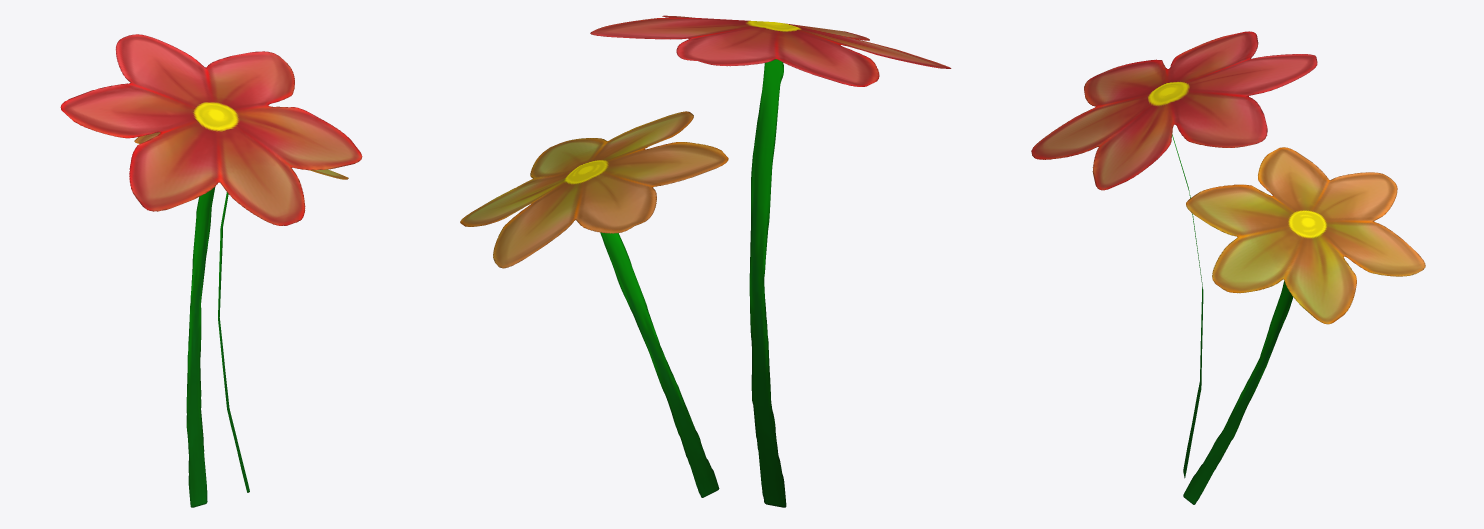
File: 10_Flor_Doble.fbx
The picture shows the model from 3 angles, left to right: view 1: azimuth 30°, elevation 25°; view 2: azimuth 150°, elevation 25°; view 3: azimuth 270°, elevation 25°; orthographic projection. The views are drawn at different scales.
Parts seen in each view (by area): view 1: Flor1.001; view 2: Flor1.001; view 3: Flor1.001.
Boxes of the visible parts, box(x1,y1,x2,y2) form: Flor1.001: box(60, 34, 362, 507); Flor1.001: box(460, 15, 951, 507); Flor1.001: box(1031, 31, 1425, 504).
Size of the model in its own units: 31.92 by 37.99 by 36.35.
